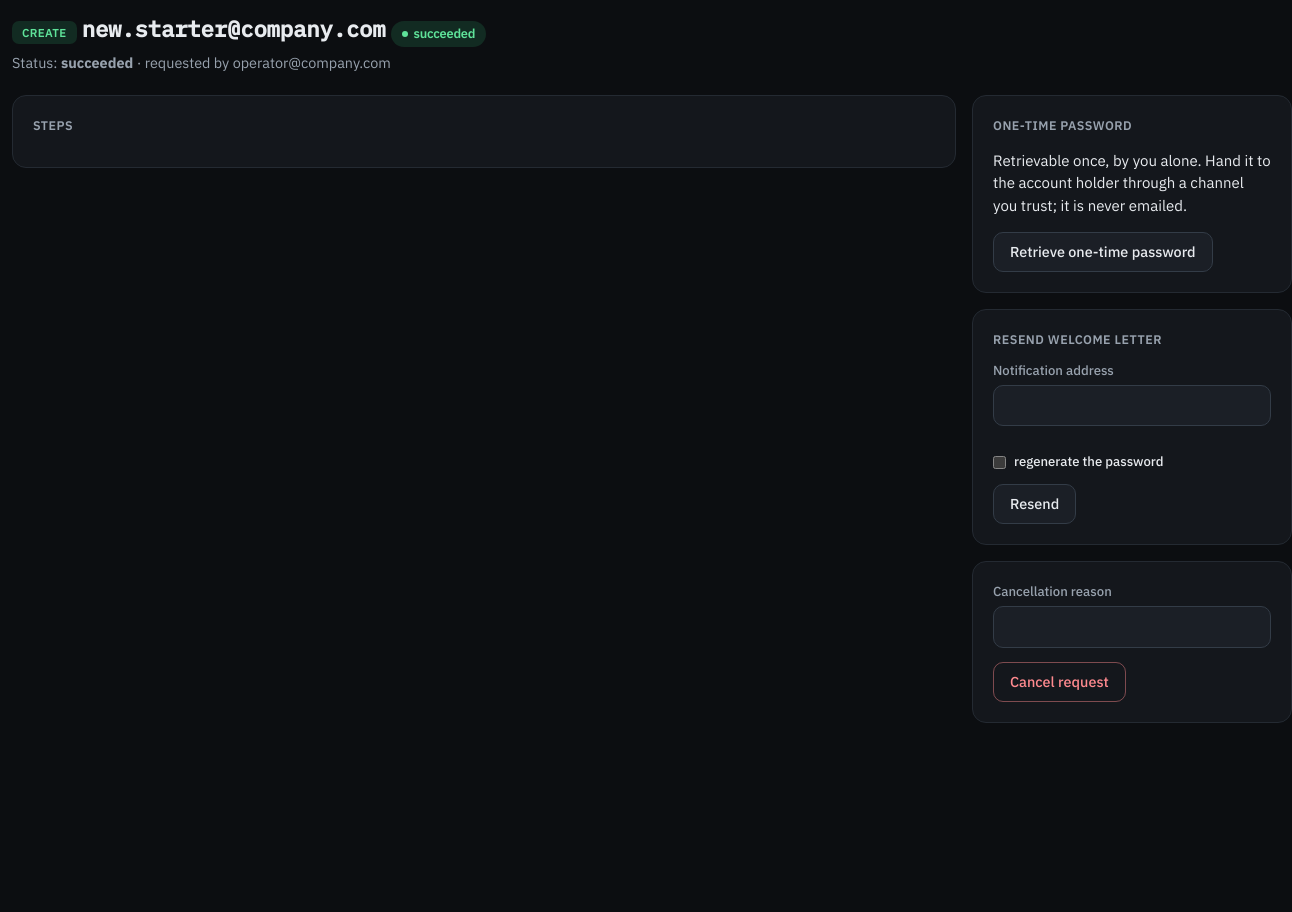
Test: REQ-017: the requester retrieves the one-time password, once › reveals the password and says it will not come back
The width and height of the screenshot is (1292, 912).
Click the button "Retrieve one-time password". click: (1103, 252)
box: [993,232,1213,272]
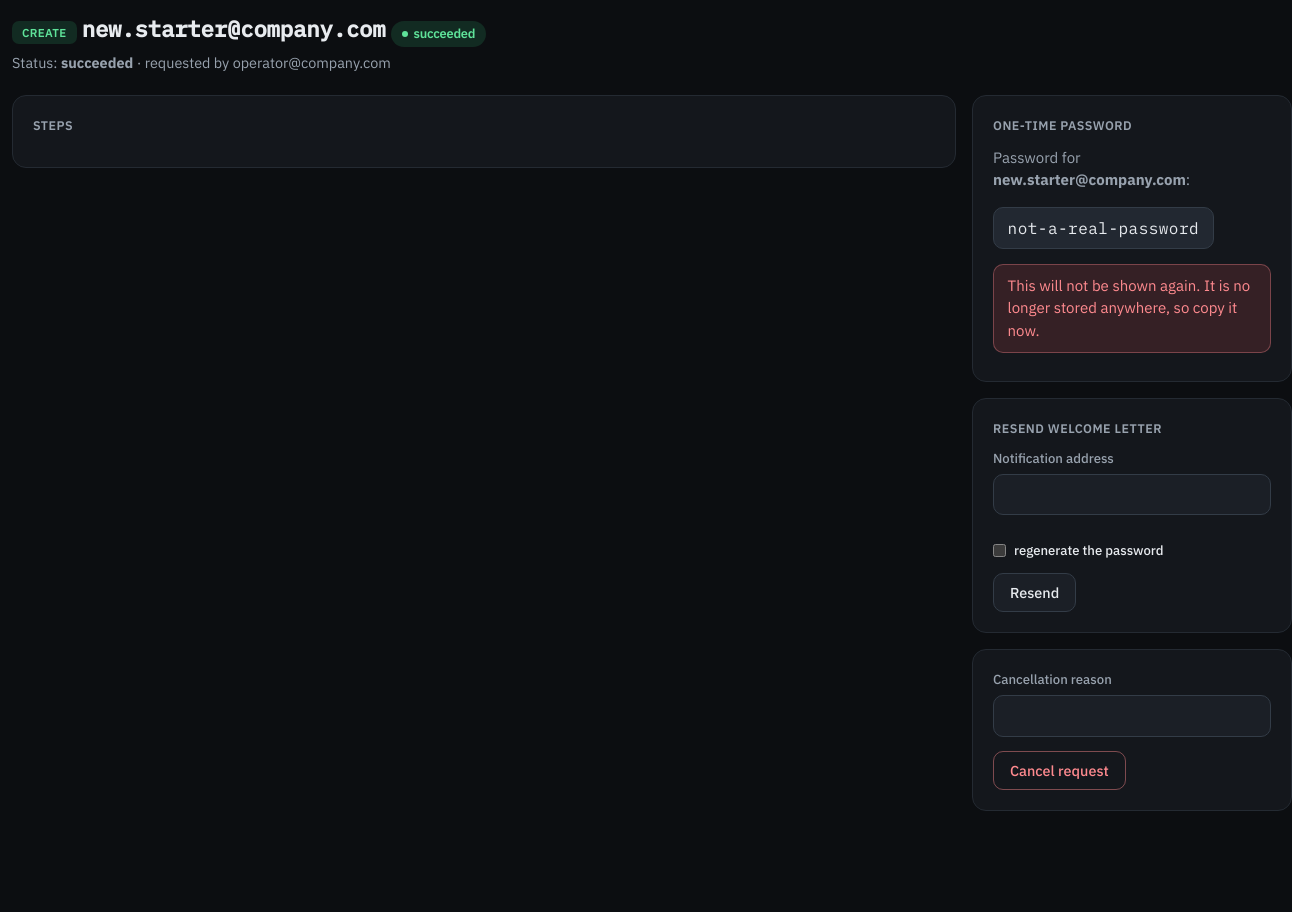
Check: the text "not-a-real-password" is shown, box [993,207,1214,249]
Check: the text "This will not be shown again. It is no longer stored anywhere, so copy it now." is shown, box [993,264,1271,353]
